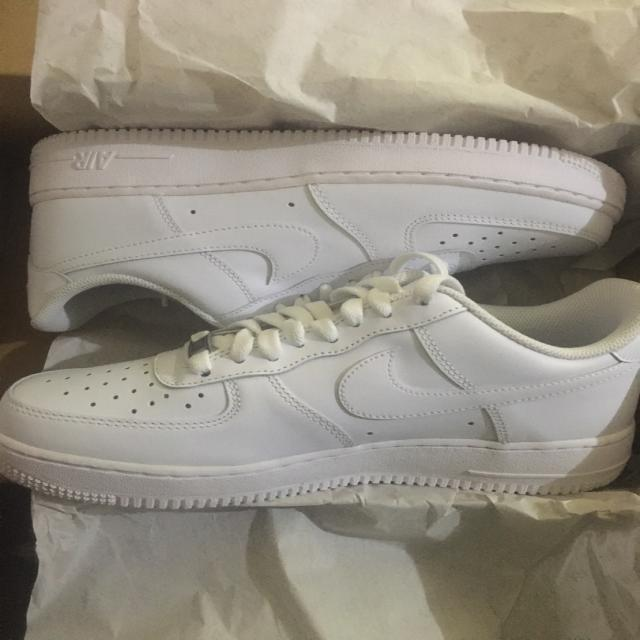nike original air force: (0, 277, 640, 514), (19, 127, 626, 341)
